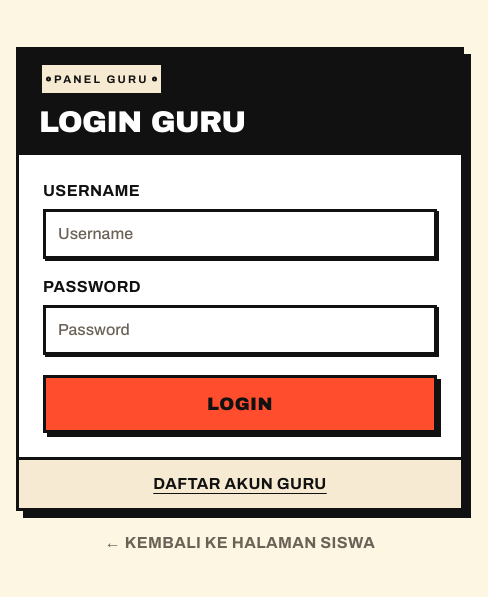
Admin Authentication › AdminLogin › displays error message when login fails
Type "guru1" into the field with placeholder "Username" at (240, 234), box [43,209,437,259]
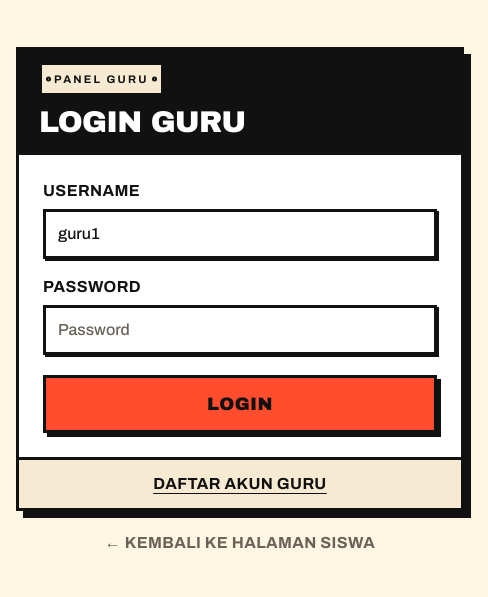
Type "wrongpass" into the password field with placeholder "Password" at (240, 330), box [43,305,437,355]
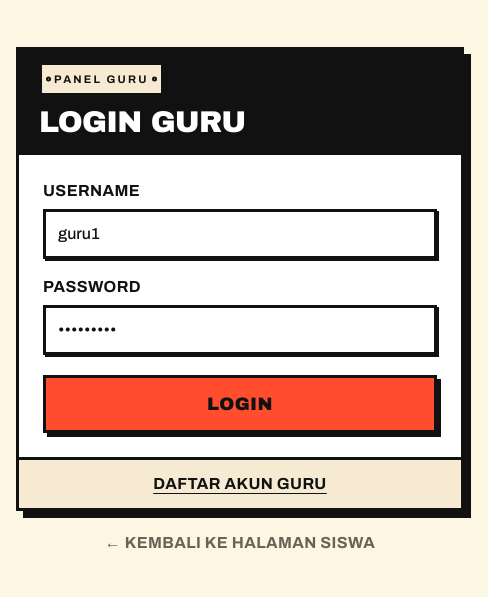
Click the button "Login" at (240, 404), box [43,375,437,433]
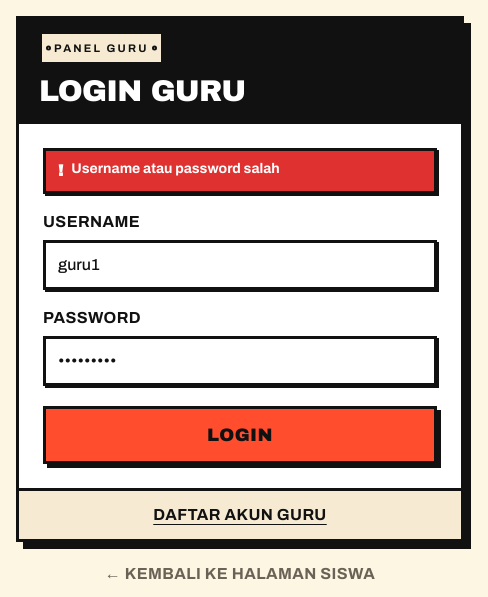
Now the text "Username atau password salah" is shown, box [71,159,280,179]
